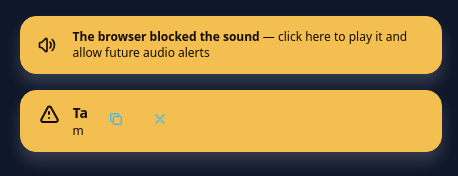
the toast audio ping (the wav-assets play hook) › surfaces the sound-blocked banner when the play is rejected + unlocks on the click
What coordinates should you click on to do the following:
click the text "The browser blocked the sound"
I would click on:
 (166, 36)
Its box is [73, 28, 260, 45].
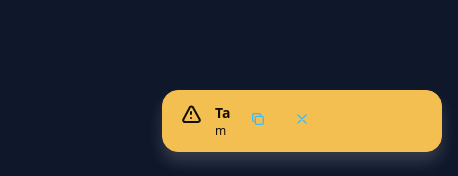
Now the button "browser blocked the sound" is gone
